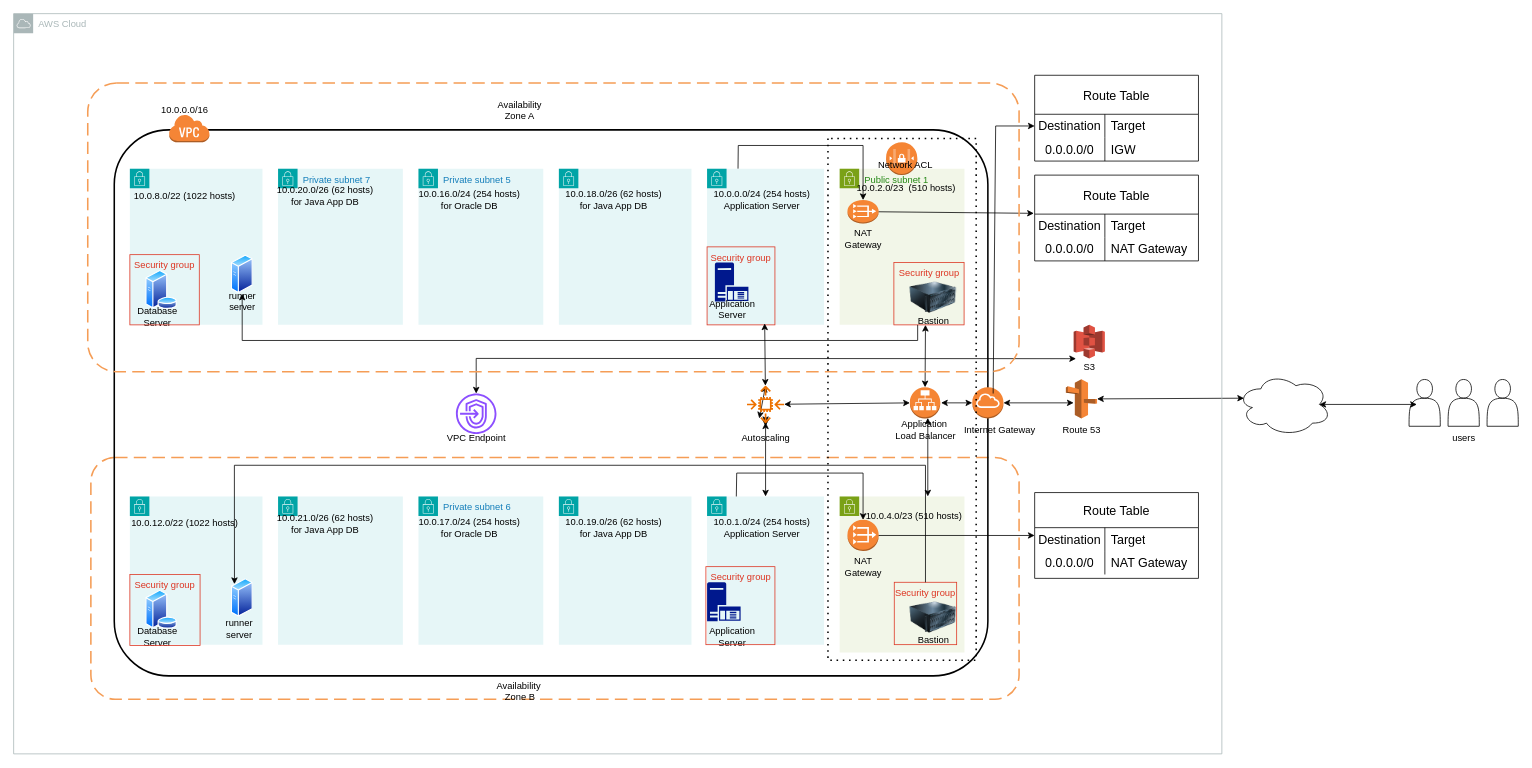
Image size: 1532x768. Some labels were removed from this diagram. The shapes that lost their labels are listed below. From the top down, each one's box as (x1, y1, x2, y2) in pixels, then its label:
(129, 168, 262, 325): Private subnet 9
(558, 168, 691, 325): Private subnet 3
(706, 168, 824, 325): Private subnet 1
(129, 496, 262, 645): Private subnet 10
(277, 496, 403, 645): Private subnet 8
(558, 496, 691, 645): Private subnet 4
(706, 496, 824, 645): Private subnet 2
(839, 496, 964, 652): Public subnet 2
